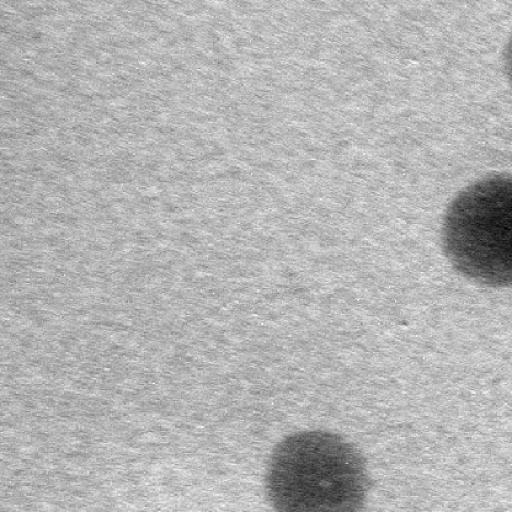Nanoparticles: (436, 168, 512, 303), (264, 426, 366, 512)
